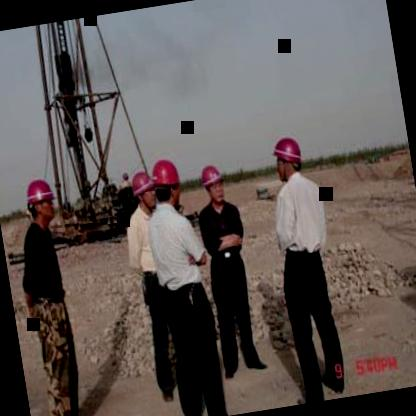helmet: (21, 173, 61, 232), (271, 130, 308, 184), (147, 158, 184, 212), (133, 163, 167, 216), (197, 161, 228, 208)
